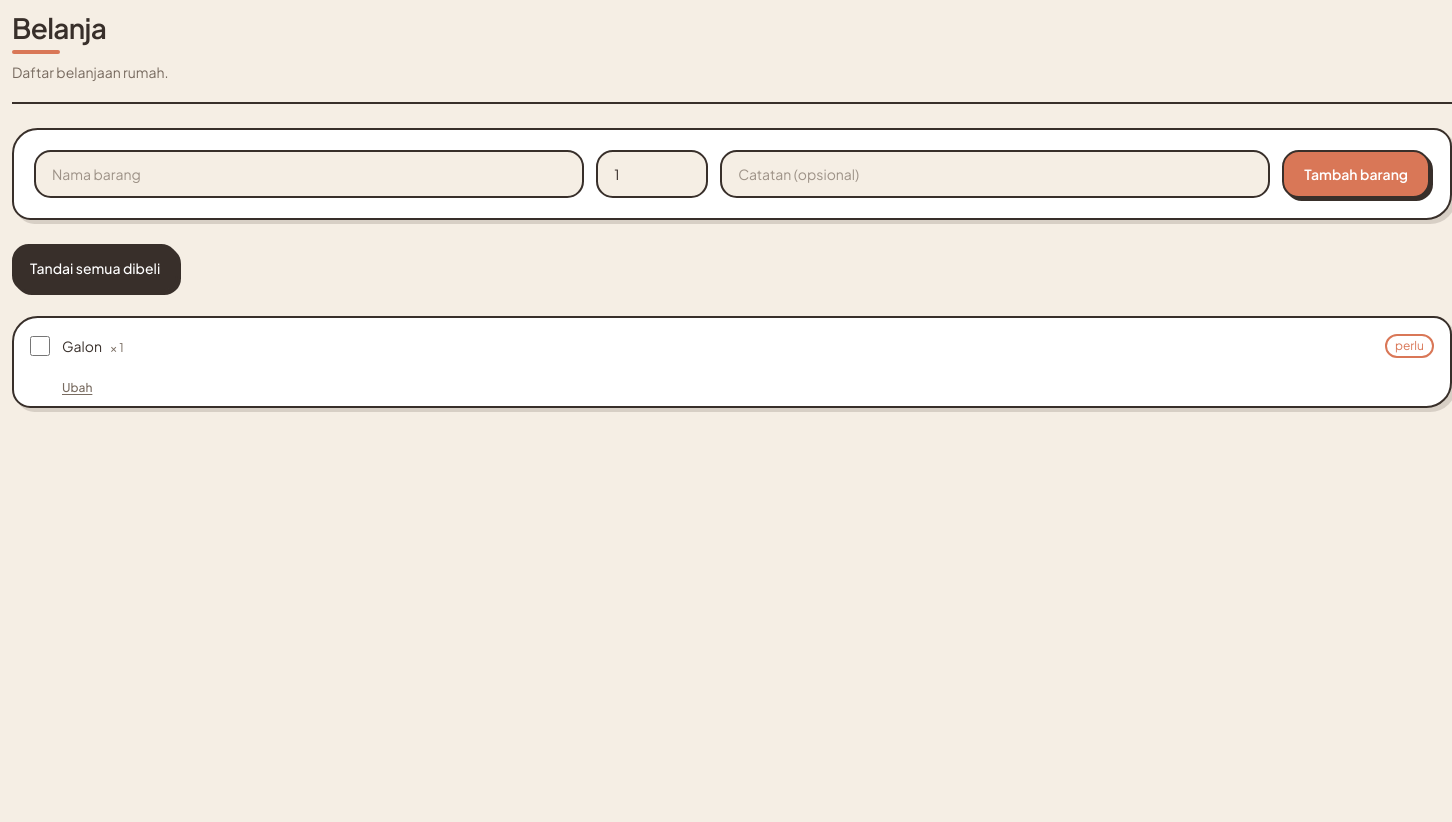
centang massal menandai dibeli
Click the button "Tandai semua dibeli". click: click(95, 268)
box: [12,244,178,292]
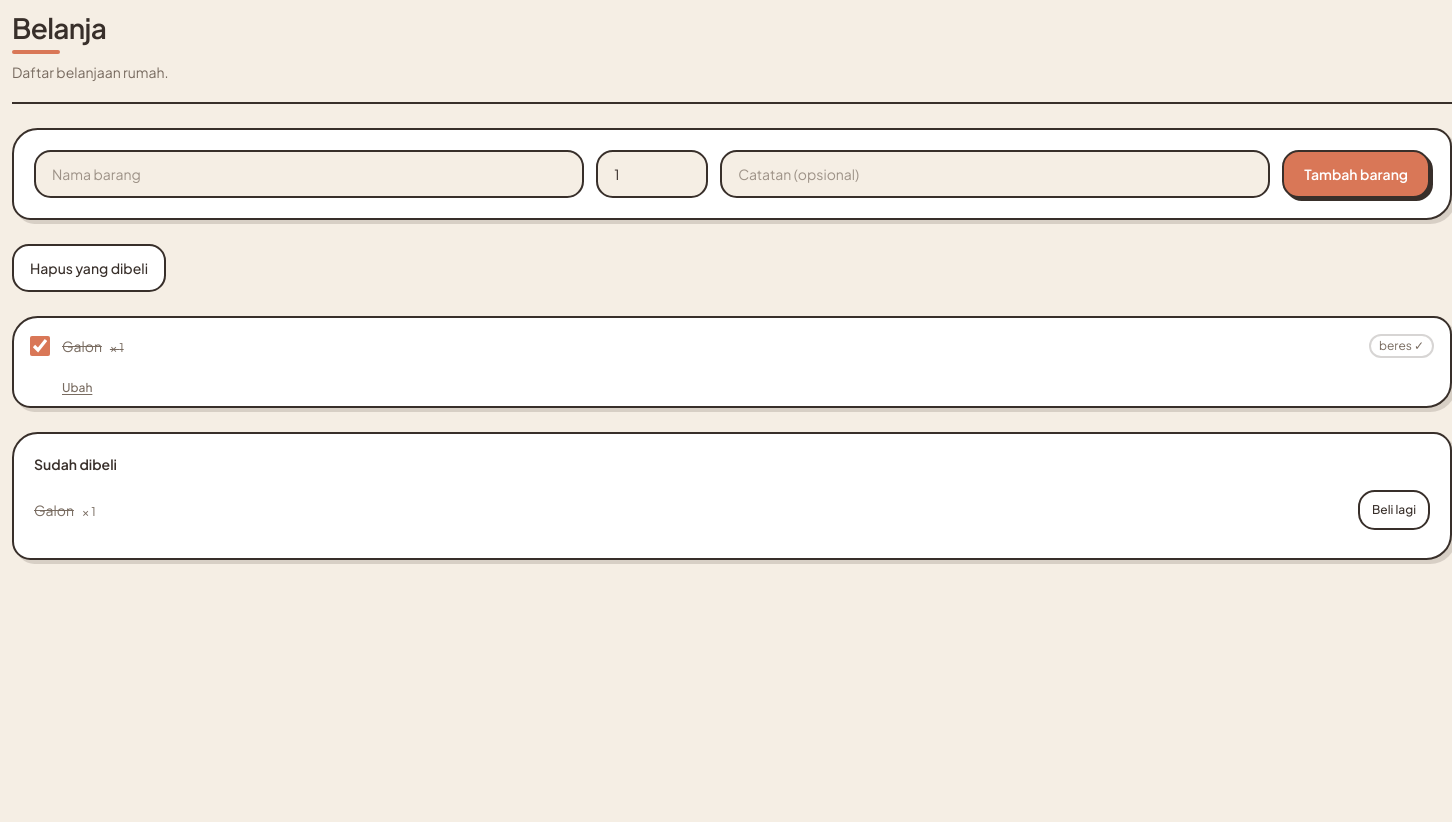
expect the text "beres ✓" is shown: met, box [1369,334,1434,358]
